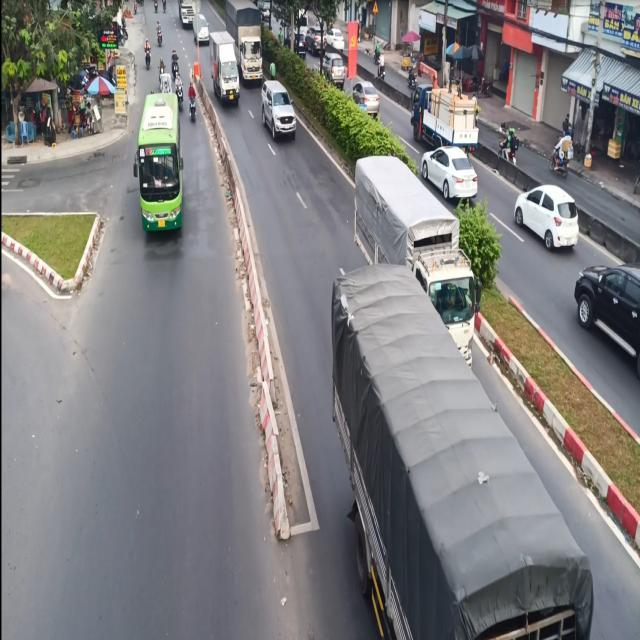bus: (132, 91, 183, 233)
car: (573, 263, 639, 381), (512, 183, 579, 250), (417, 146, 485, 203), (256, 80, 299, 141)
truck: (314, 273, 589, 640), (356, 155, 476, 359), (223, 5, 270, 84), (207, 31, 246, 108)
